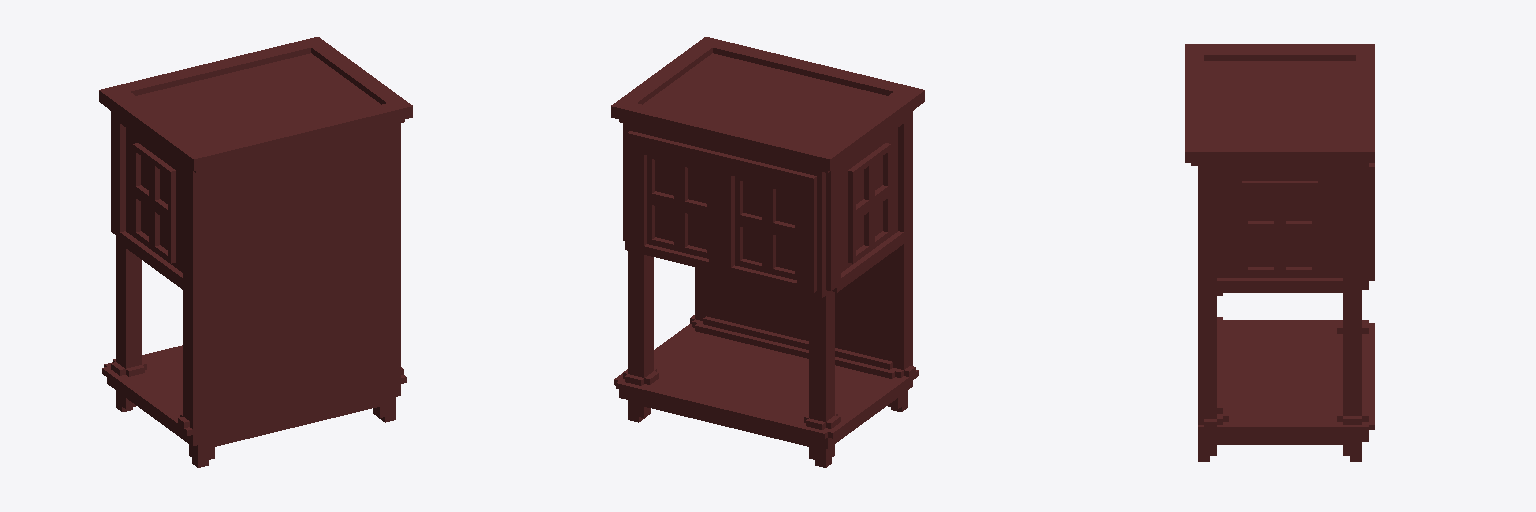
3 views of the same model, side by side, from view 1: azimuth 30°, elevation 25°; view 2: azimuth 150°, elevation 25°; view 3: azimuth 270°, elevation 25° (orthographic).
Visible parts, largest first — view 1: meuble; view 2: meuble; view 3: meuble.
Boxes of the visible parts, box(x1,y1,x2,y2) form: meuble: box(99, 37, 412, 467); meuble: box(611, 37, 924, 467); meuble: box(1185, 44, 1374, 461).
Bounding box in the file's own units: 40 × 55 × 30.
Materials: 1 (1 with a texture image).